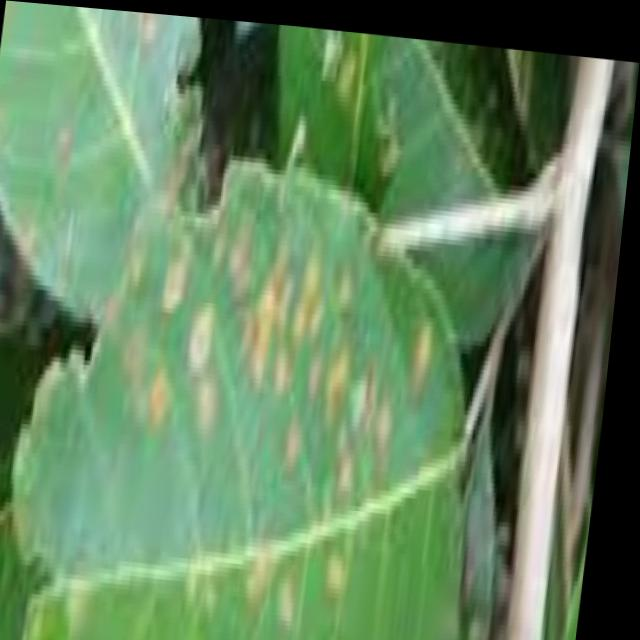Algal Leaf Spot: (234, 226, 344, 389), (328, 317, 385, 460), (195, 269, 230, 420), (162, 229, 204, 335), (406, 300, 446, 397)
